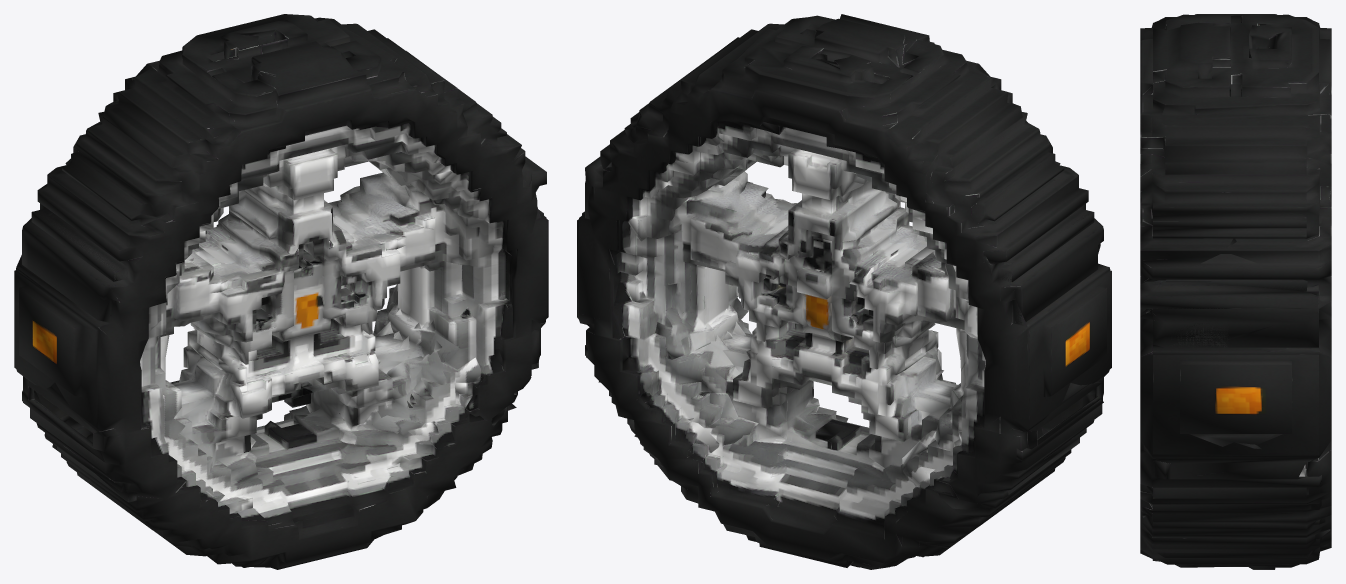
The model's file is PORSCHEWHEEL.glb.
3 views of the same model, side by side, from view 1: azimuth 30°, elevation 25°; view 2: azimuth 150°, elevation 25°; view 3: azimuth 270°, elevation 25° (orthographic).
Bounding box in the file's own units: 1.91 × 1.91 × 0.6614.
1 material, 1 textured.
